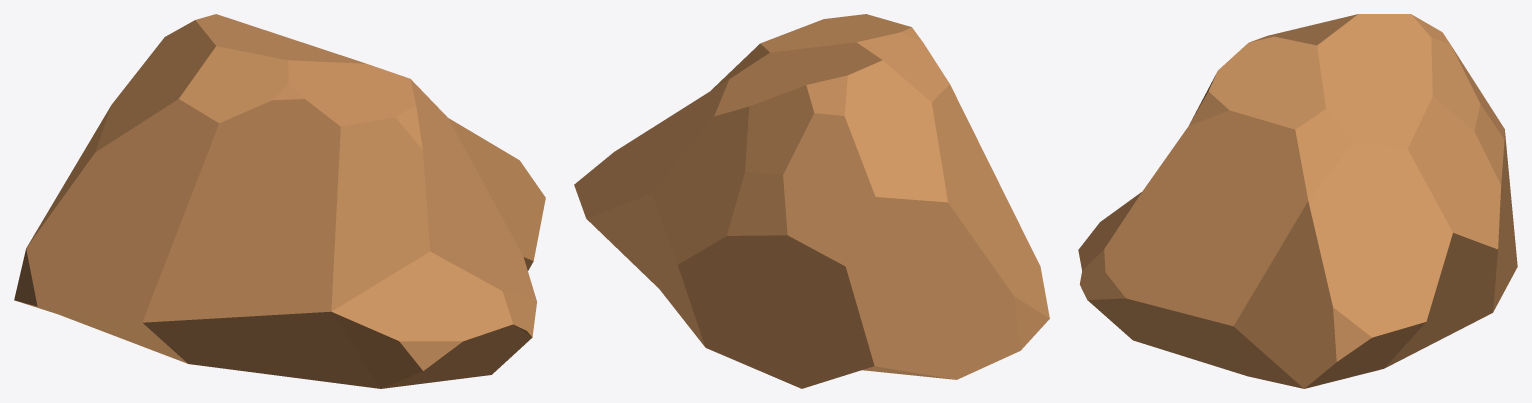
Rendered from Rock_2.fbx.
3 renders of one model, left to right at view 1: azimuth 30°, elevation 25°; view 2: azimuth 150°, elevation 25°; view 3: azimuth 270°, elevation 25°, orthographic. The views are drawn at different scales.
Parts seen in each view (by area): view 1: Rock2; view 2: Rock2; view 3: Rock2.
Boxes of the visible parts, <box> form: Rock2: <box>14,14,545,388</box>; Rock2: <box>574,14,1049,388</box>; Rock2: <box>1078,14,1517,388</box>.
Bounding box in the file's own units: 183 × 105 × 152.
